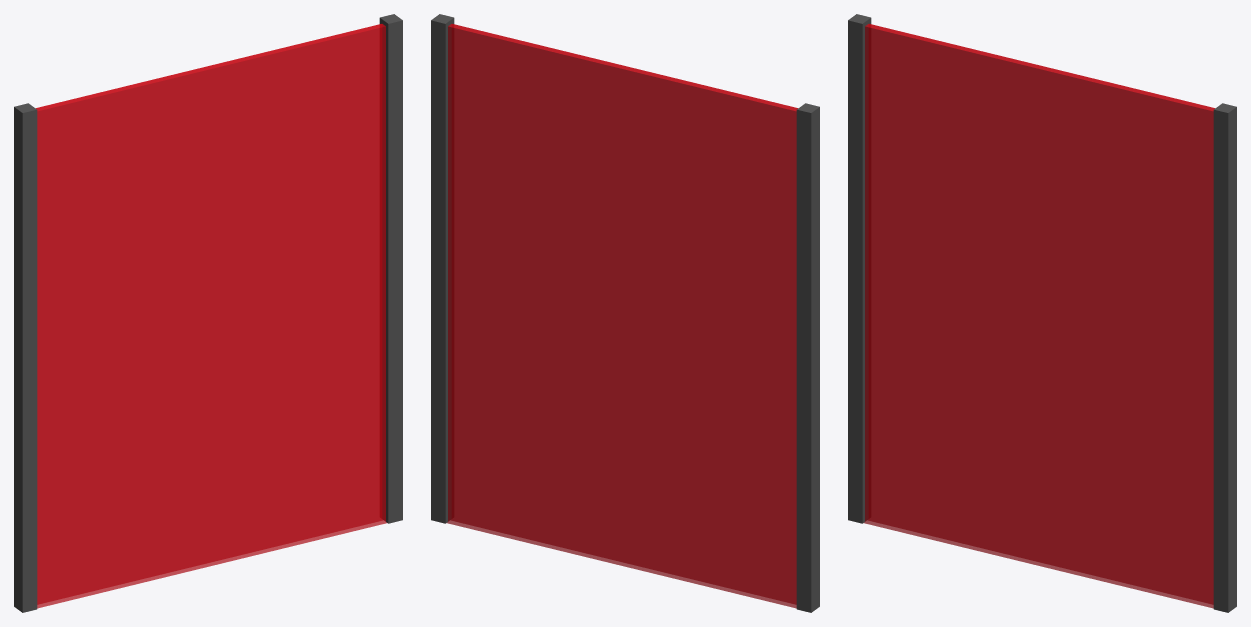
File: red gate.fbx
The picture shows the model from 3 angles, left to right: view 1: azimuth 30°, elevation 25°; view 2: azimuth 150°, elevation 25°; view 3: azimuth 330°, elevation 25°; orthographic projection.
Visible parts, largest first — view 1: red gate; view 2: red gate; view 3: red gate.
Boxes of the visible parts, x1,y1,x2,y2 form: red gate: (14, 14, 402, 612); red gate: (431, 14, 819, 612); red gate: (848, 14, 1236, 612).
Size of the model in its own units: 3.61 by 0.1434 by 4.55.
